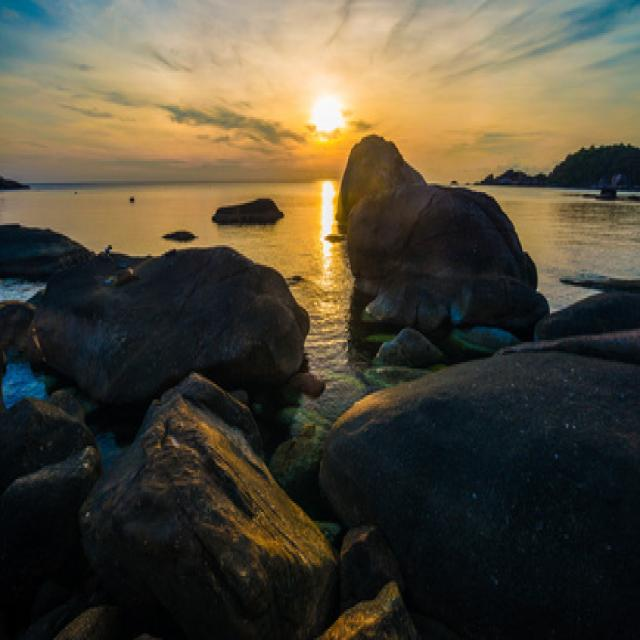reef: (218, 171, 540, 372)
